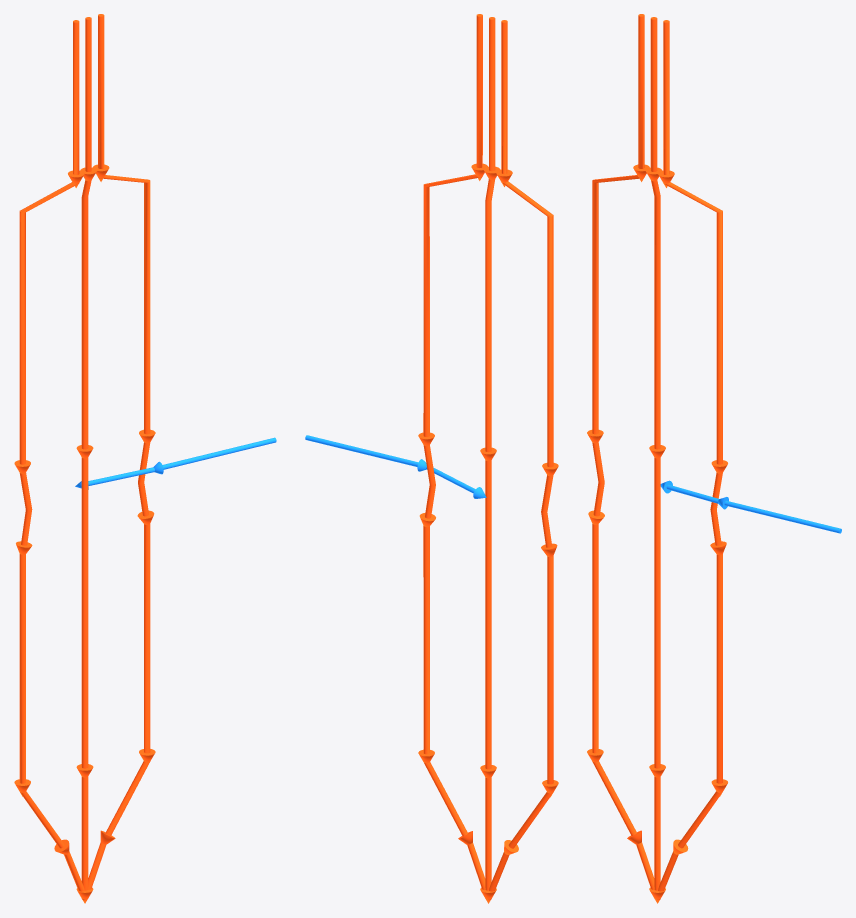
The model's file is packed_bed_reactor_flow.glb.
3 renders of one model, left to right at view 1: azimuth 30°, elevation 25°; view 2: azimuth 150°, elevation 25°; view 3: azimuth 330°, elevation 25°, orthographic.
Visible parts, largest first — view 1: process_1, process_0, process_2, quench; view 2: process_2, process_0, process_1, quench; view 3: process_0, process_2, process_1, quench.
Part boxes in pixels (<box>): process_1: <box>76,17,96,903</box>; process_0: <box>14,20,85,899</box>; process_2: <box>88,14,155,889</box>; quench: <box>75,437,276,489</box>; process_2: <box>418,14,487,889</box>; process_0: <box>488,20,558,900</box>; process_1: <box>480,17,500,903</box>; quench: <box>305,435,486,498</box>; process_0: <box>587,14,654,889</box>; process_2: <box>657,20,727,900</box>; process_1: <box>645,17,665,903</box>; quench: <box>660,480,841,533</box>.
Bounding box in the file's own units: 0.8234 × 2.73 × 0.0863.
